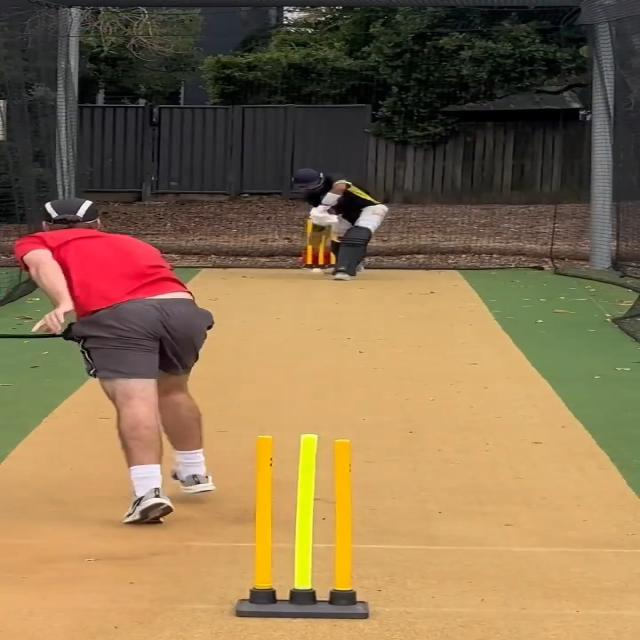stump: (234, 433, 371, 620)
